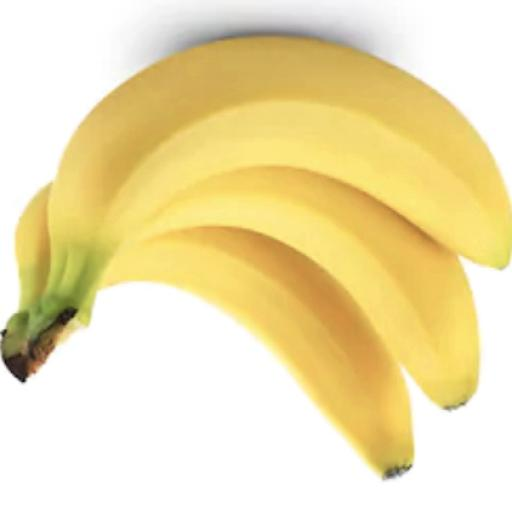banana: (25, 37, 511, 338), (127, 167, 478, 407), (132, 167, 478, 408), (101, 226, 412, 477)
